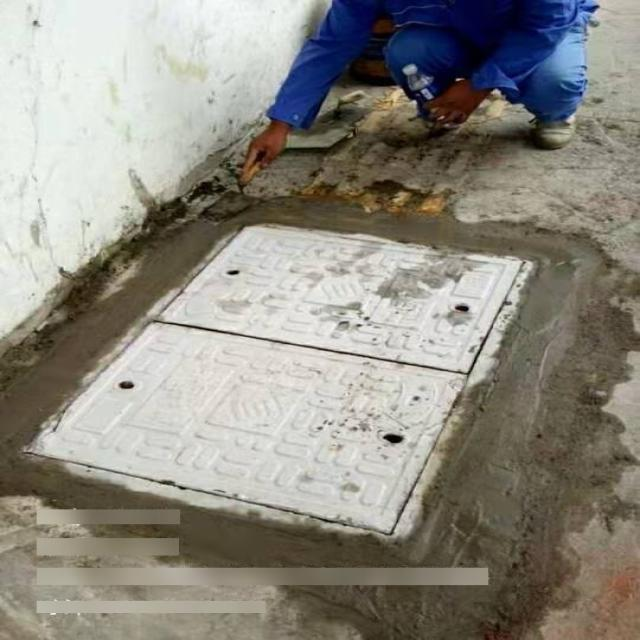Good: (11, 219, 528, 536)
